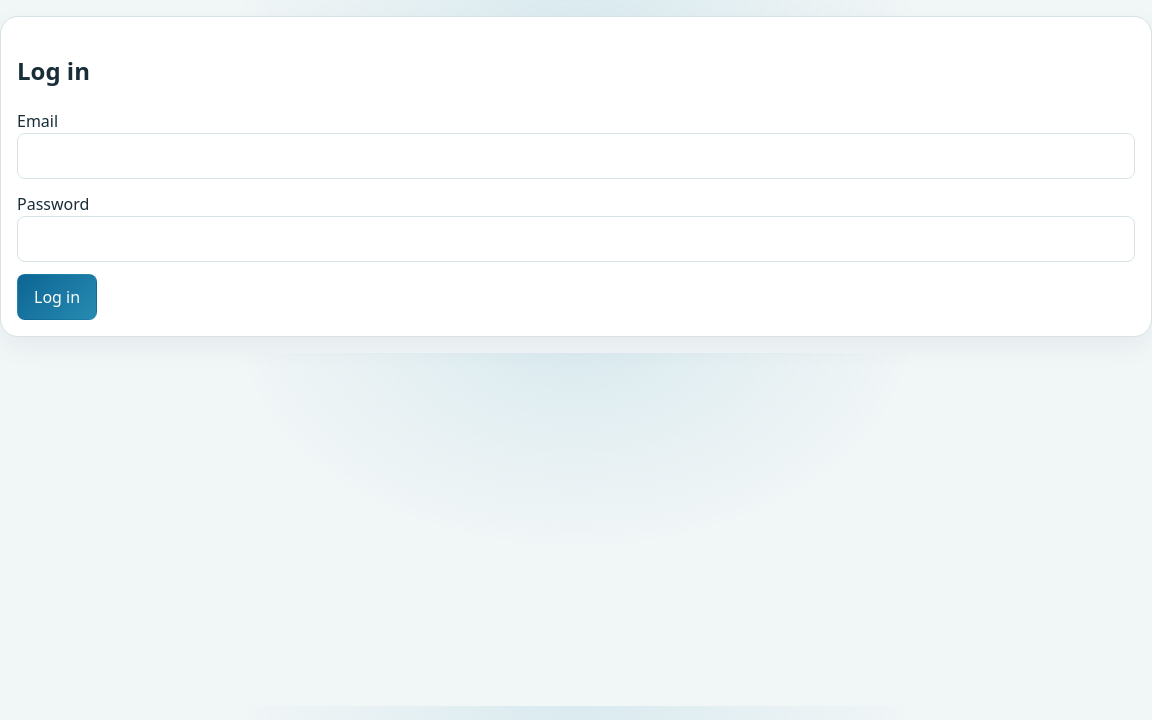
Test: form validation › login form blocks submit and shows errors
Click the button "Log in" at [57, 297], box [17, 274, 97, 320]
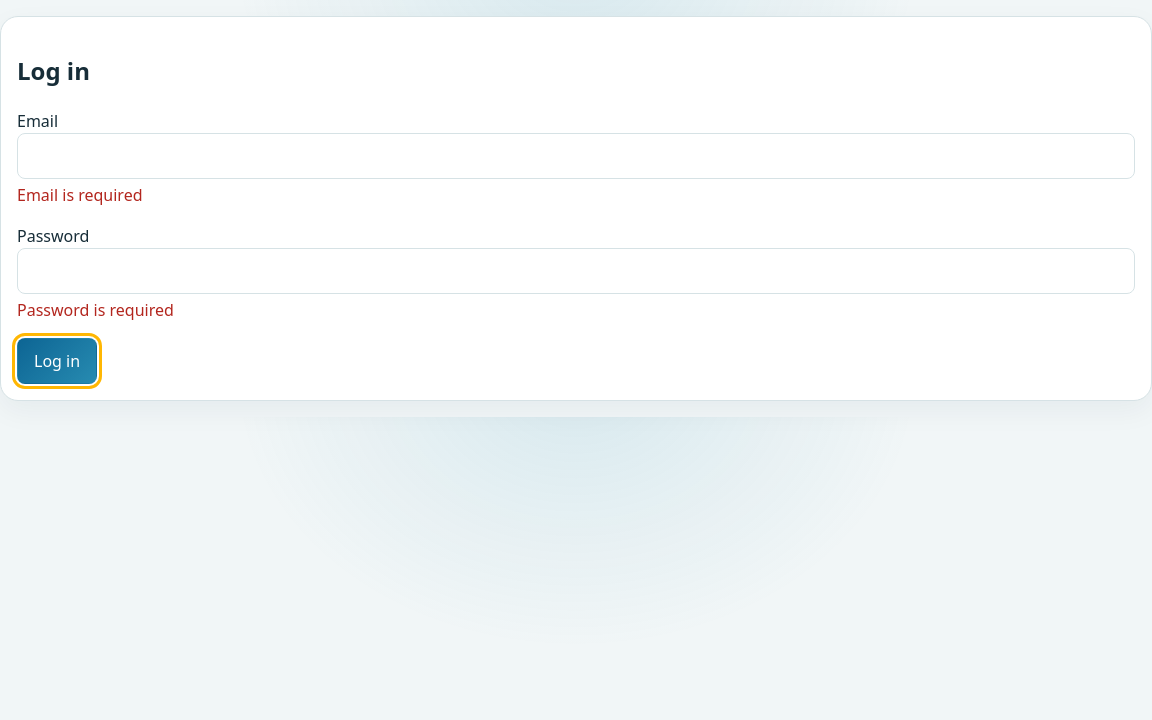
Now the text "Email is required" is shown, box [17, 184, 142, 206]
Now the text "Password is required" is shown, box [17, 299, 174, 321]
